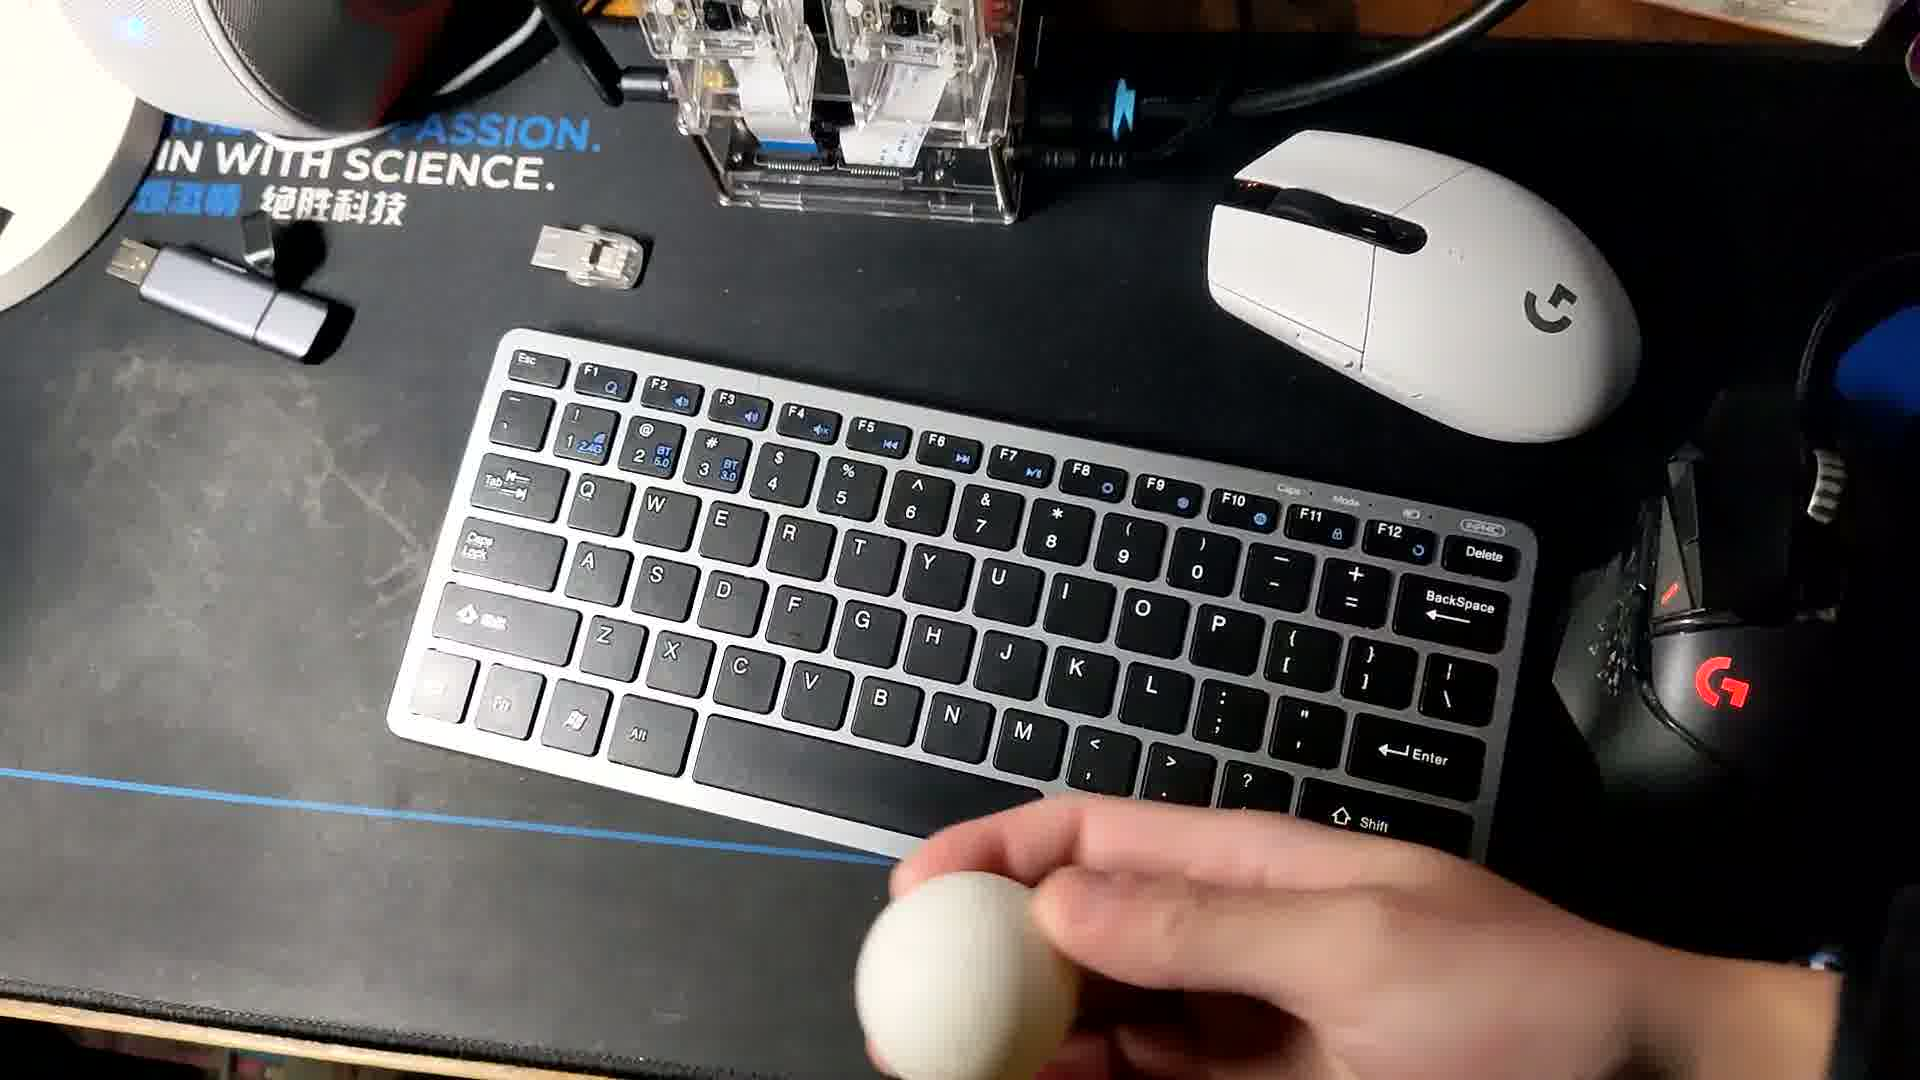Ball: (855, 873, 1083, 1080)
